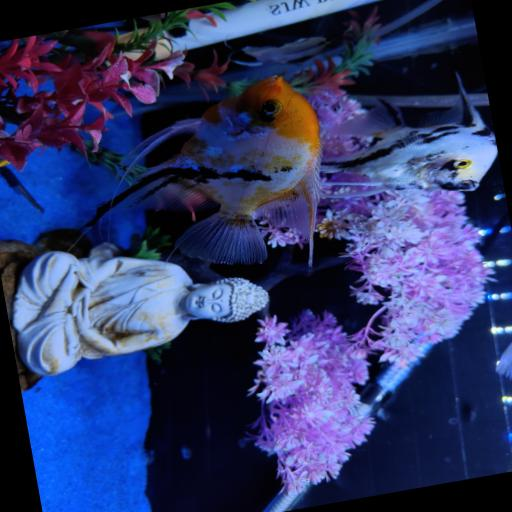Fish: (86, 76, 320, 263), (320, 75, 497, 196), (495, 342, 511, 378)
